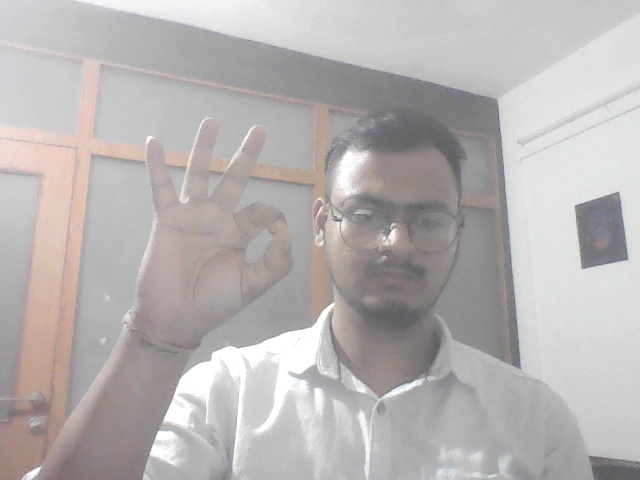OK: (123, 115, 307, 336)
